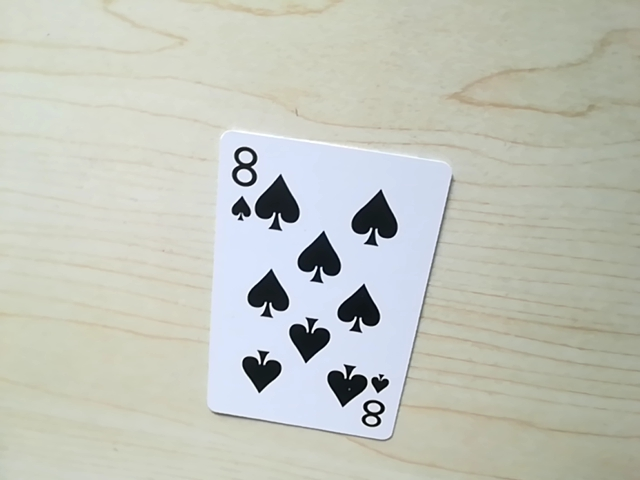ht 8: (221, 134, 267, 220), (357, 377, 394, 440)
